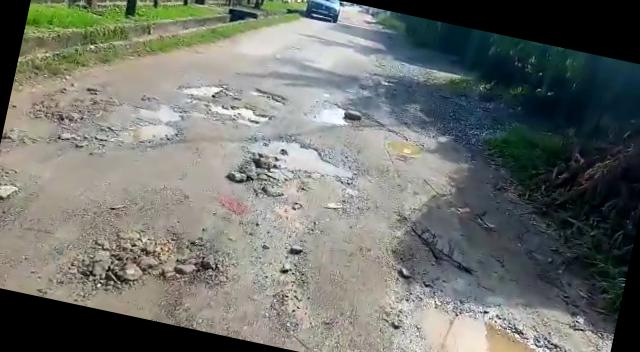pothole: (380, 290, 611, 352), (250, 132, 360, 179), (204, 96, 272, 127), (134, 118, 182, 147), (131, 98, 183, 124), (176, 76, 226, 103), (307, 98, 353, 126), (382, 131, 424, 159)
